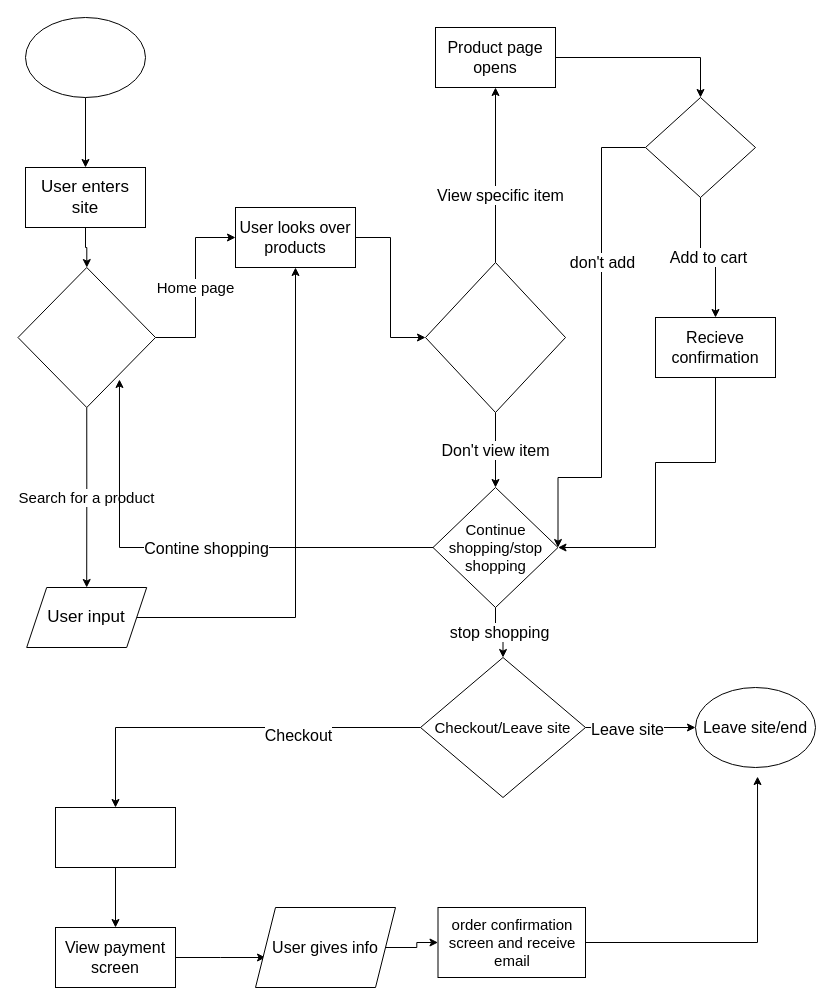
This 833x1005 diagram has some shape labels left out. The box of each missing label's shape, as (x1, y1, x2, y2) in pixels:
Add to cart/don't add: (644, 96, 756, 198)
Search for a product/explore home page: (17, 266, 156, 408)
Start: (24, 16, 146, 98)
View cart screen: (54, 806, 176, 868)
View Specific item/Don't view time: (424, 262, 566, 412)
